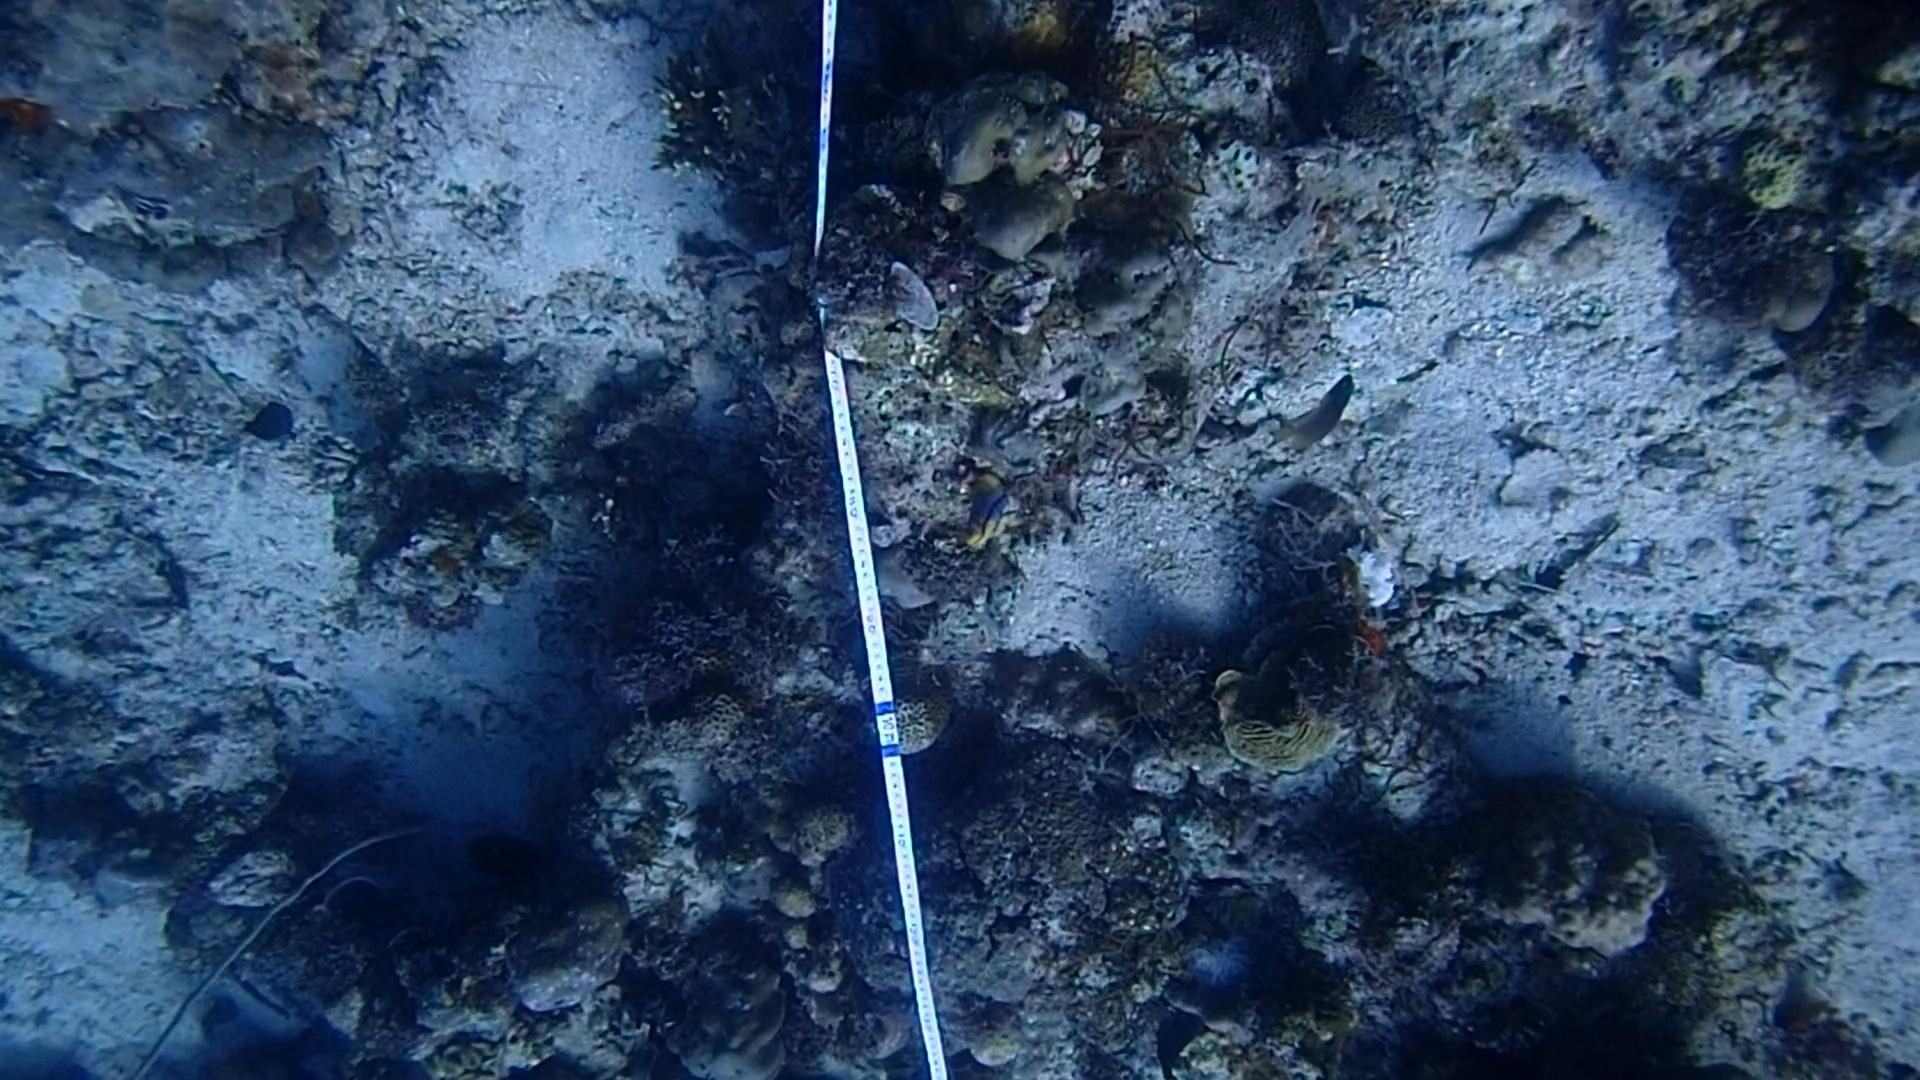Dark Fish: (240, 388, 302, 456)
Light Fish: (1261, 373, 1370, 460)
